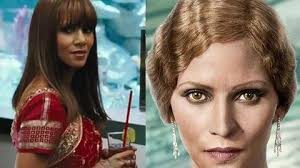white_female: (167, 39, 284, 168)
